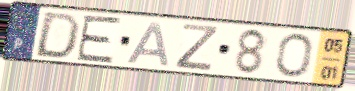8: (233, 28, 268, 76)
A: (124, 20, 172, 68)
D: (31, 10, 83, 60)
E: (74, 14, 124, 65)
O: (274, 32, 314, 80)
Z: (173, 22, 221, 73)
